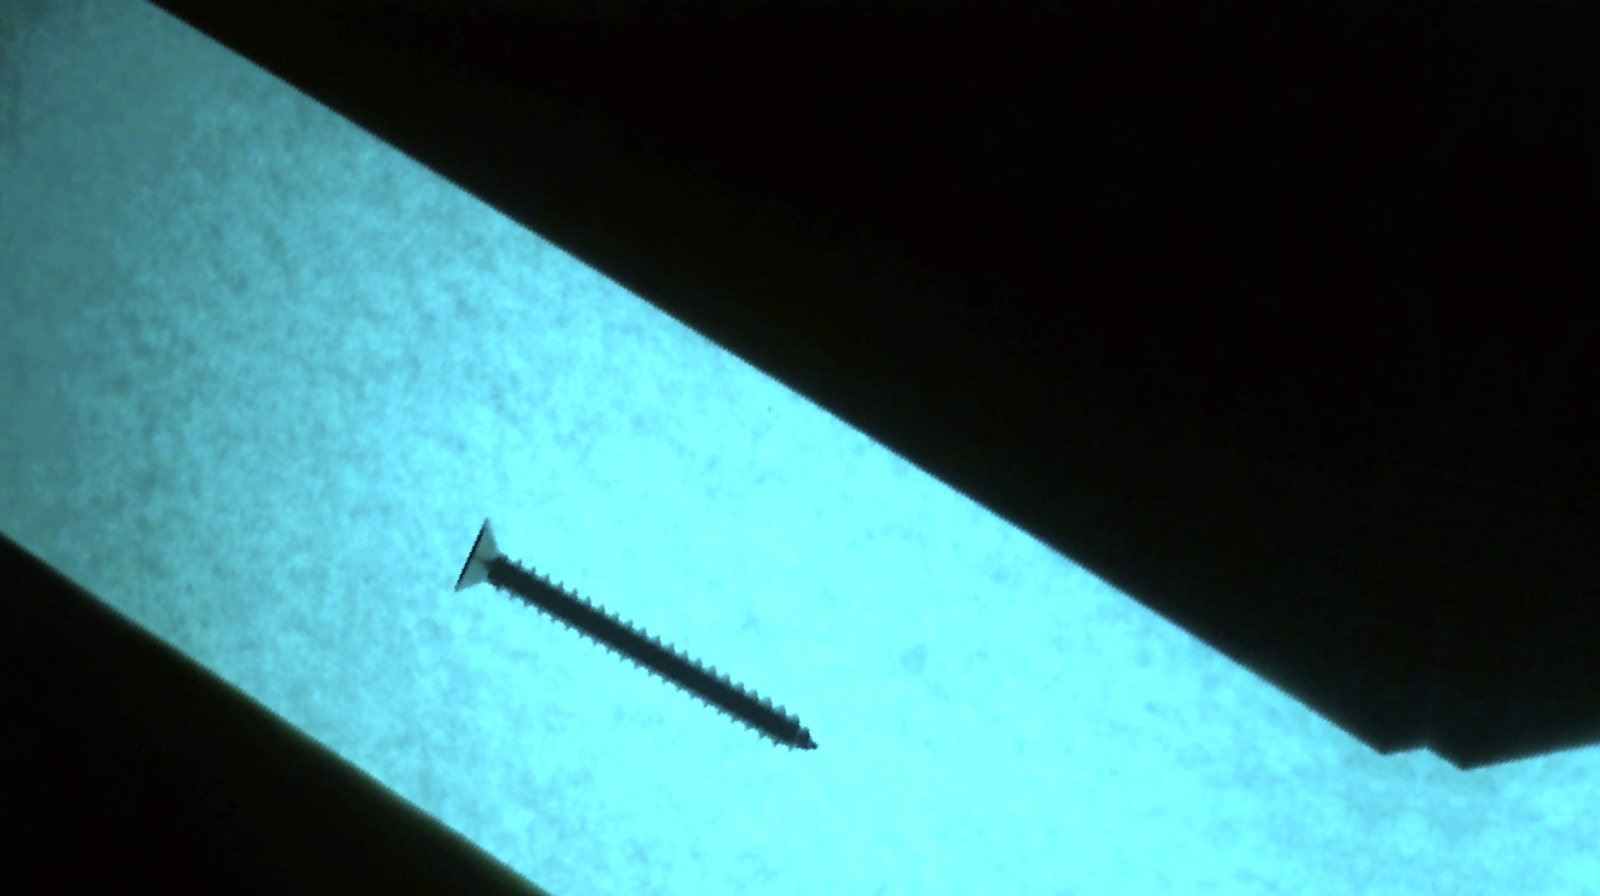S002: (432, 501, 860, 778)
